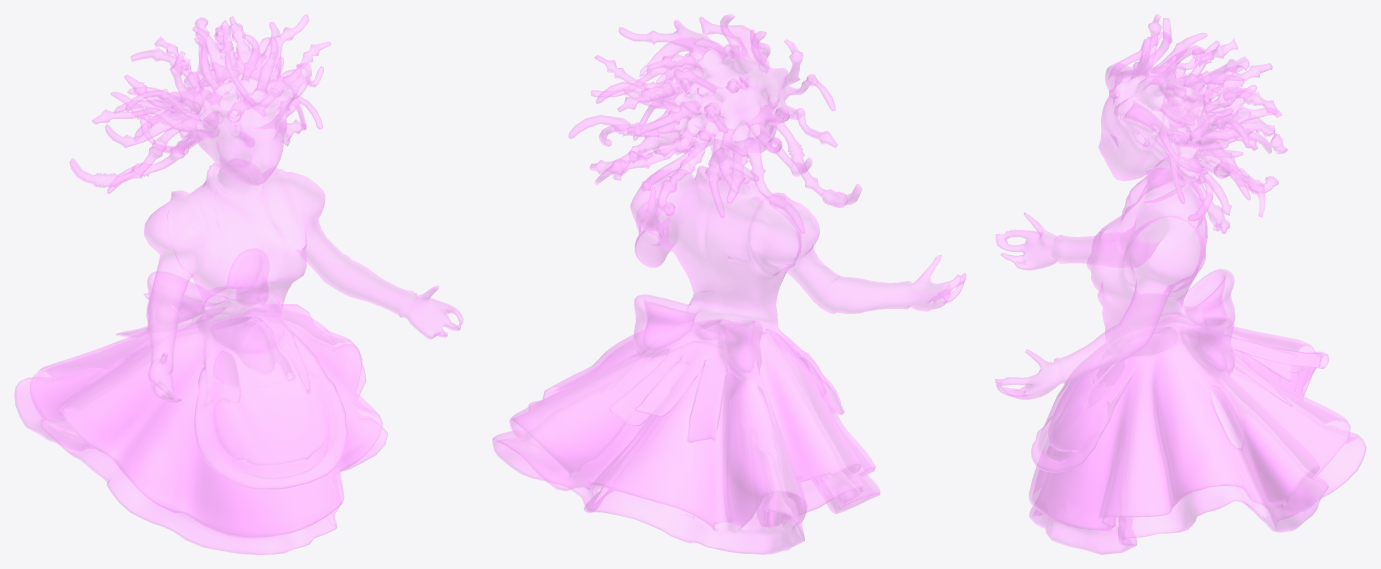
Rendered from eleanor 1.fbx.
The picture shows the model from 3 angles, left to right: view 1: azimuth 30°, elevation 25°; view 2: azimuth 150°, elevation 25°; view 3: azimuth 270°, elevation 25°; orthographic projection. The views are drawn at different scales.
Parts seen in each view (by area): view 1: Retopo_tmpbtvemst7.ply; view 2: Retopo_tmpbtvemst7.ply; view 3: Retopo_tmpbtvemst7.ply.
Part boxes in pixels (x1,y1,x2,y2): Retopo_tmpbtvemst7.ply: (14, 14, 463, 554); Retopo_tmpbtvemst7.ply: (492, 14, 966, 554); Retopo_tmpbtvemst7.ply: (995, 14, 1366, 554).
Size of the model in its own units: 118 by 170 by 117.
